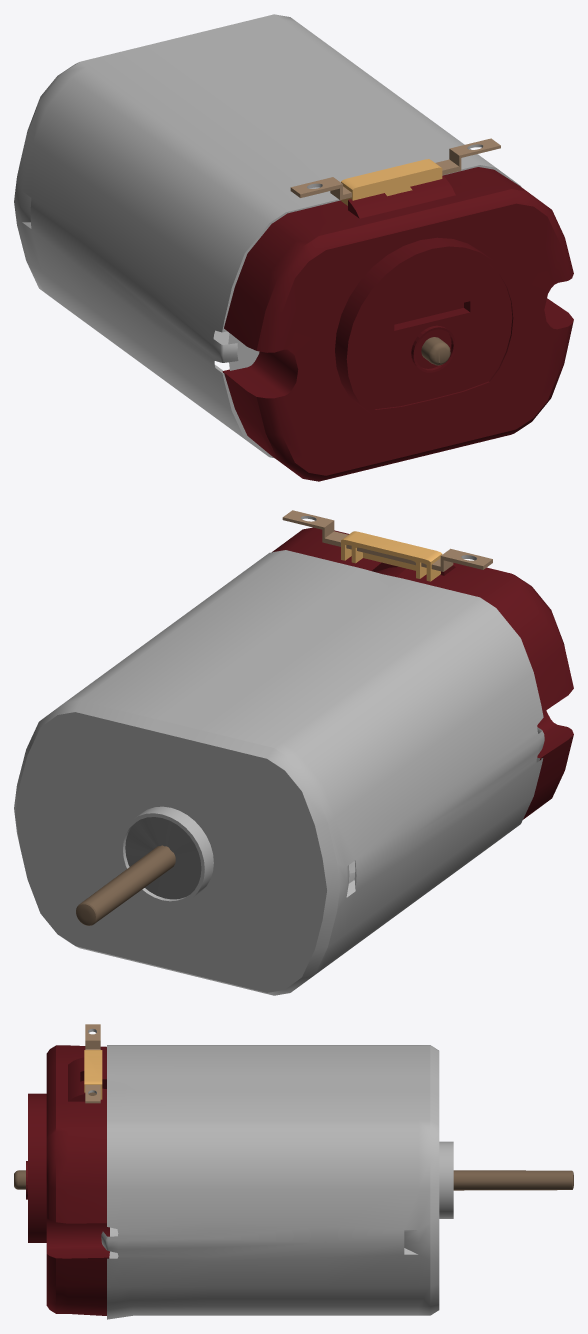
The model's file is type_130_dc_brushless_motor.glb.
The picture shows the model from 3 angles, top to bottom: view 1: azimuth 30°, elevation 25°; view 2: azimuth 150°, elevation 25°; view 3: azimuth 270°, elevation 25°; orthographic projection. The views are drawn at different scales.
Parts seen in each view (by area): view 1: Type 130 DC Brushless Motor_0; view 2: Type 130 DC Brushless Motor_0; view 3: Type 130 DC Brushless Motor_0.
Boxes of the visible parts, x1=… form: Type 130 DC Brushless Motor_0: x1=14, y1=14, x2=573, y2=481; Type 130 DC Brushless Motor_0: x1=14, y1=510, x2=573, y2=995; Type 130 DC Brushless Motor_0: x1=14, y1=1024, x2=573, y2=1319.
Bounding box in the file's own units: 0.0411 × 0.0331 × 0.0777.
